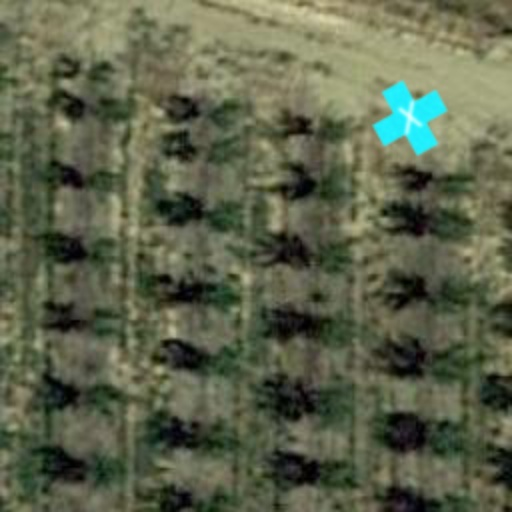cross: (360, 68, 460, 168)
